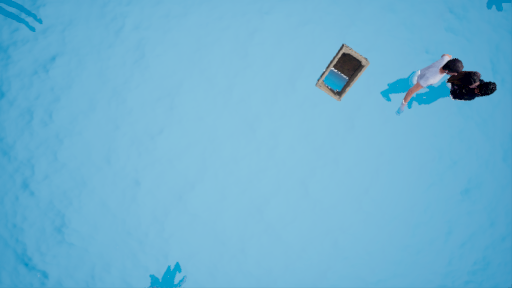person: (382, 49, 489, 119)
